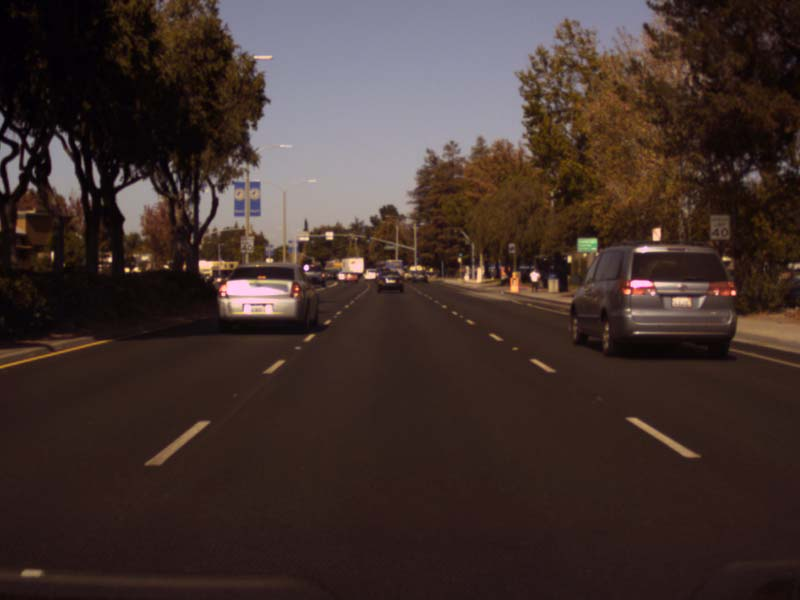Green: (457, 250, 462, 258), (365, 233, 369, 243)
